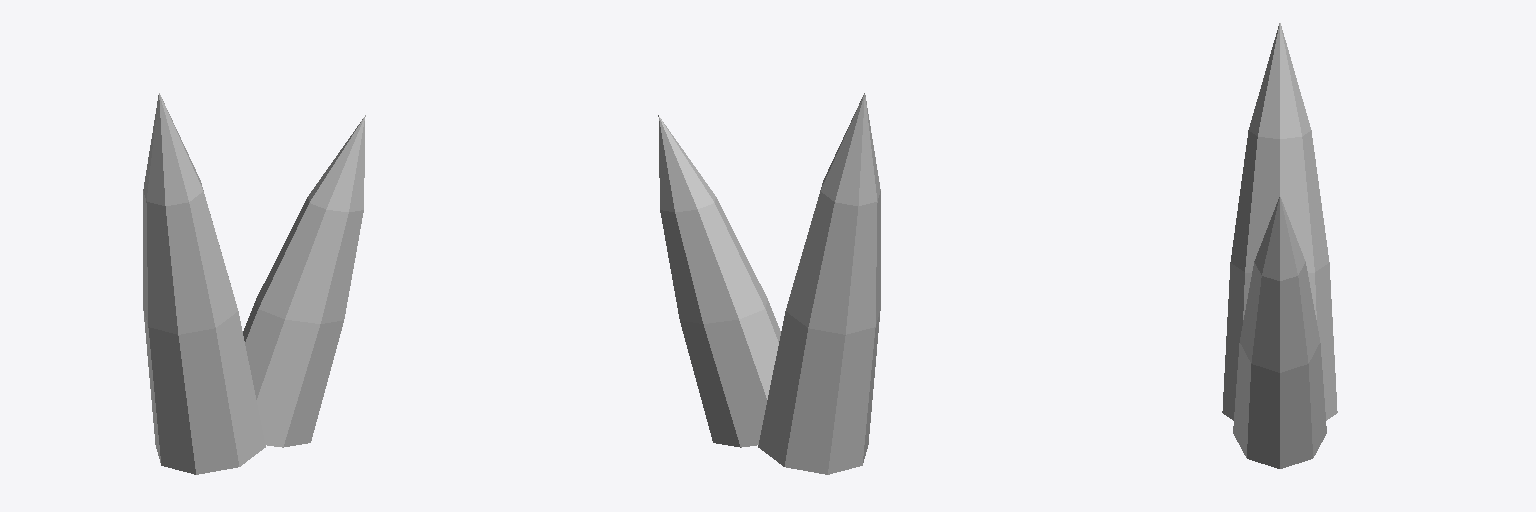
The model's file is 3d_grass.obj.
3 views of the same model, side by side, from view 1: azimuth 30°, elevation 25°; view 2: azimuth 150°, elevation 25°; view 3: azimuth 270°, elevation 25° (orthographic).
Visible parts, largest first — view 1: Circle; view 2: Circle; view 3: Circle.
Boxes of the visible parts, x1=… form: Circle: x1=143, y1=93, x2=365, y2=474; Circle: x1=658, y1=93, x2=880, y2=474; Circle: x1=1222, y1=23, x2=1337, y2=468.
Size of the model in its own units: 0.879 by 1.44 by 0.4005.